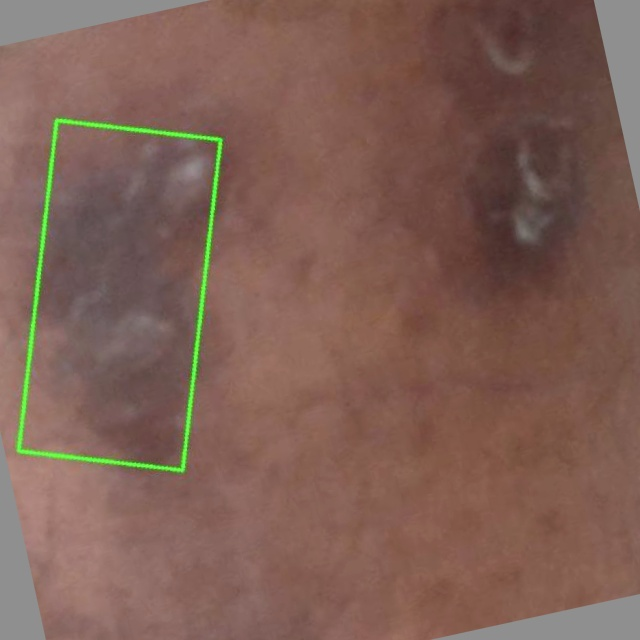Eczema: (19, 121, 221, 470)
